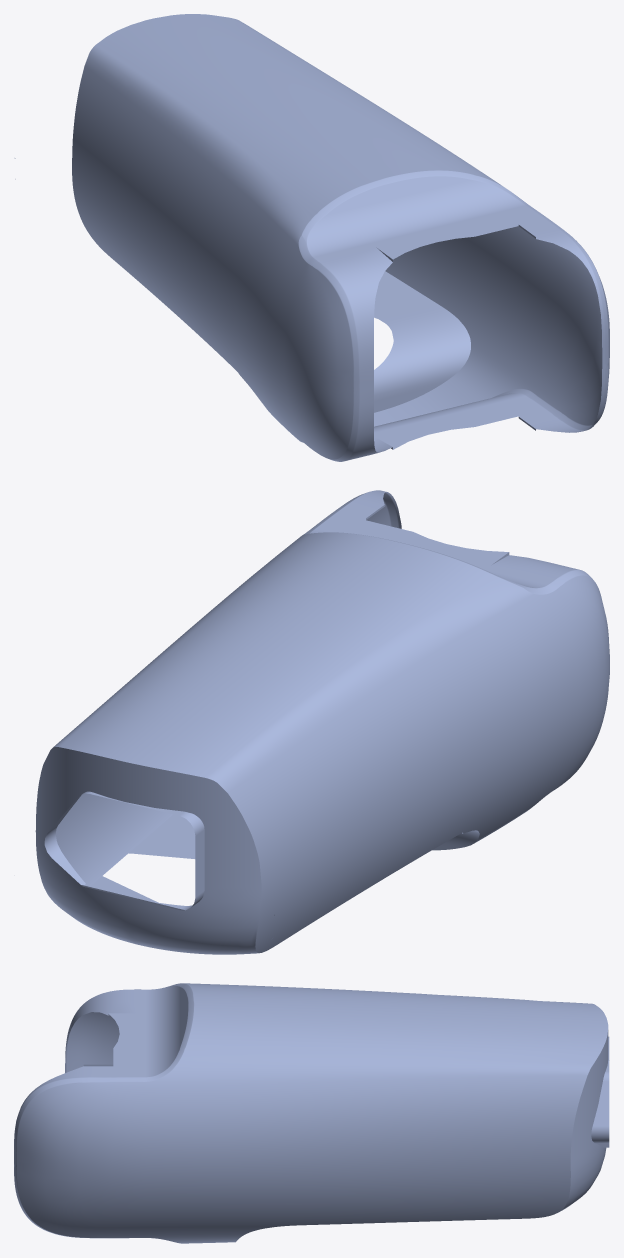
File: 小原子右小腿.glb
3 views of the same model, one above another, from view 1: azimuth 30°, elevation 25°; view 2: azimuth 150°, elevation 25°; view 3: azimuth 270°, elevation 25° (orthographic). The views are drawn at different scales.
Visible parts, largest first — view 1: NONE_8.003; view 2: NONE_8.003; view 3: NONE_8.003.
Boxes of the visible parts, left/top/right/bottom form: NONE_8.003: left=14, top=14, right=609, bottom=461; NONE_8.003: left=35, top=490, right=609, bottom=954; NONE_8.003: left=14, top=983, right=609, bottom=1243.
Bounding box in the file's own units: 0.0926 × 0.0822 × 0.204.
